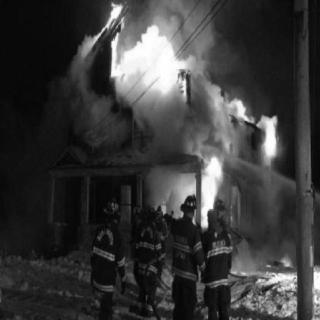Fire: (78, 4, 190, 100), (197, 158, 219, 228)
Smoke: (150, 106, 212, 150)
